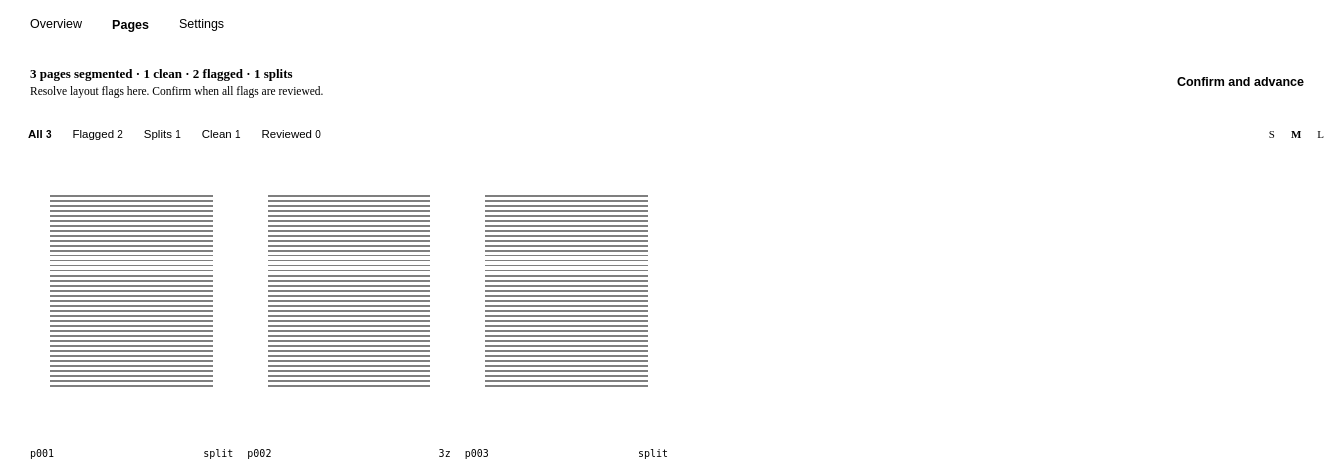
Test: TextZonesTool — tab switching › clicking Settings tab shows zone-step-settings-tab
Expected: the element with test id "zone-tab-bar" is shown, [16, 8, 238, 42]
What coordinates should you click on to do the following:
click the button with test id "zone-tab-settings"
I would click on:
 (202, 25)
Its box is [165, 8, 238, 42].
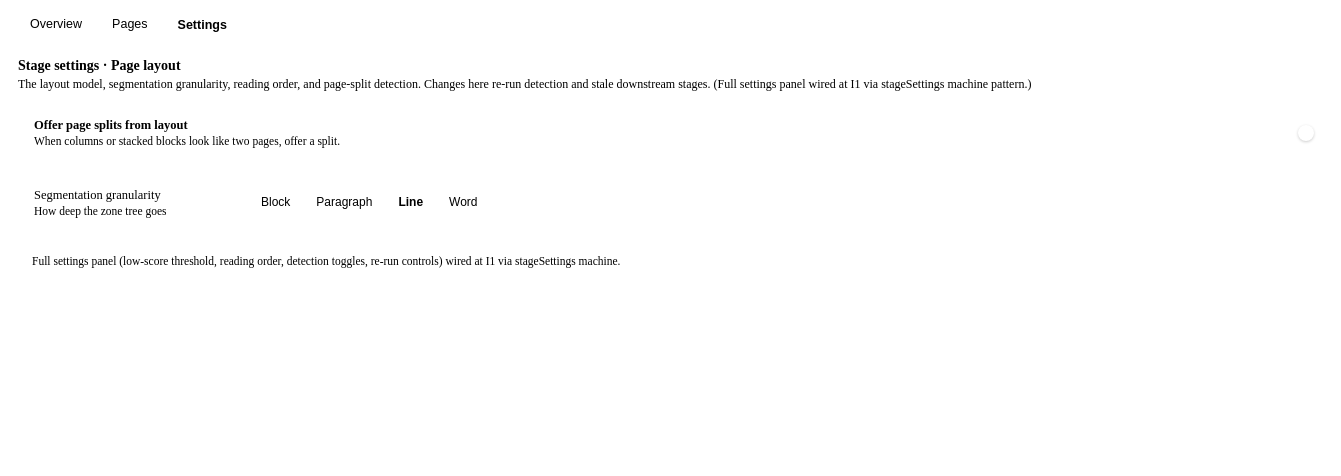
Expected: the element with test id "zone-step-settings-tab" is shown, [18, 58, 1316, 267]
